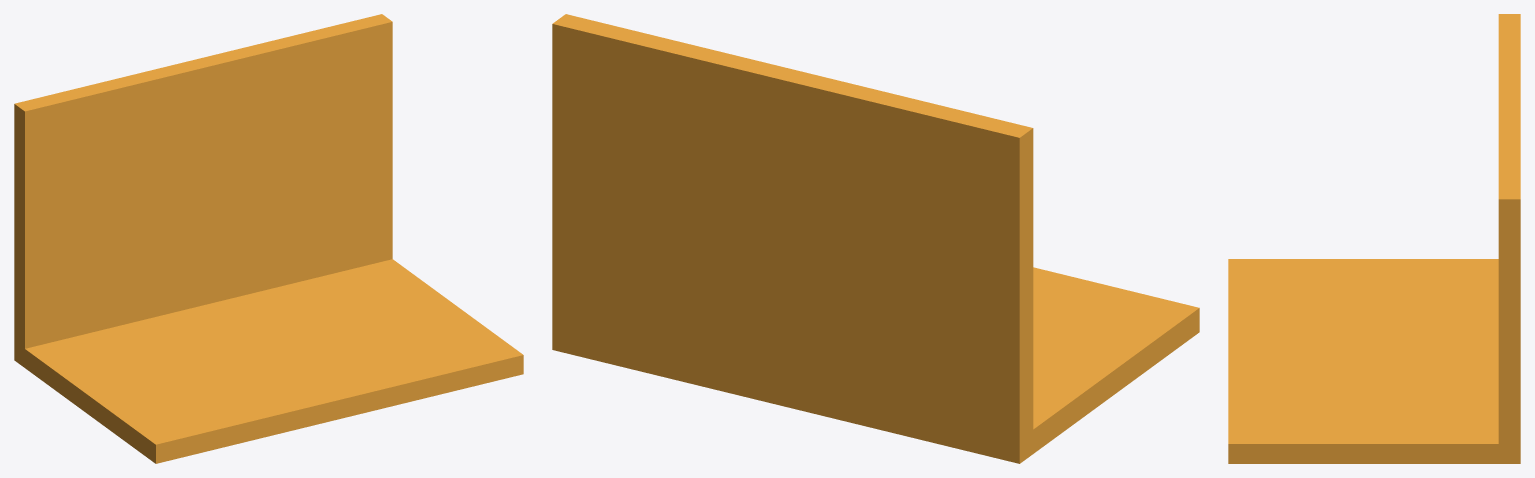
3 views of the same model, side by side, from view 1: azimuth 30°, elevation 25°; view 2: azimuth 150°, elevation 25°; view 3: azimuth 270°, elevation 25° (orthographic). The views are drawn at different scales.
Visible parts, largest first — view 1: Bracket v1; view 2: Bracket v1; view 3: Bracket v1.
Boxes of the visible parts, <box> form: Bracket v1: <box>14,14,523,463</box>; Bracket v1: <box>552,14,1199,463</box>; Bracket v1: <box>1228,14,1520,463</box>.
Size of the model in its own units: 60 by 40 by 40.
